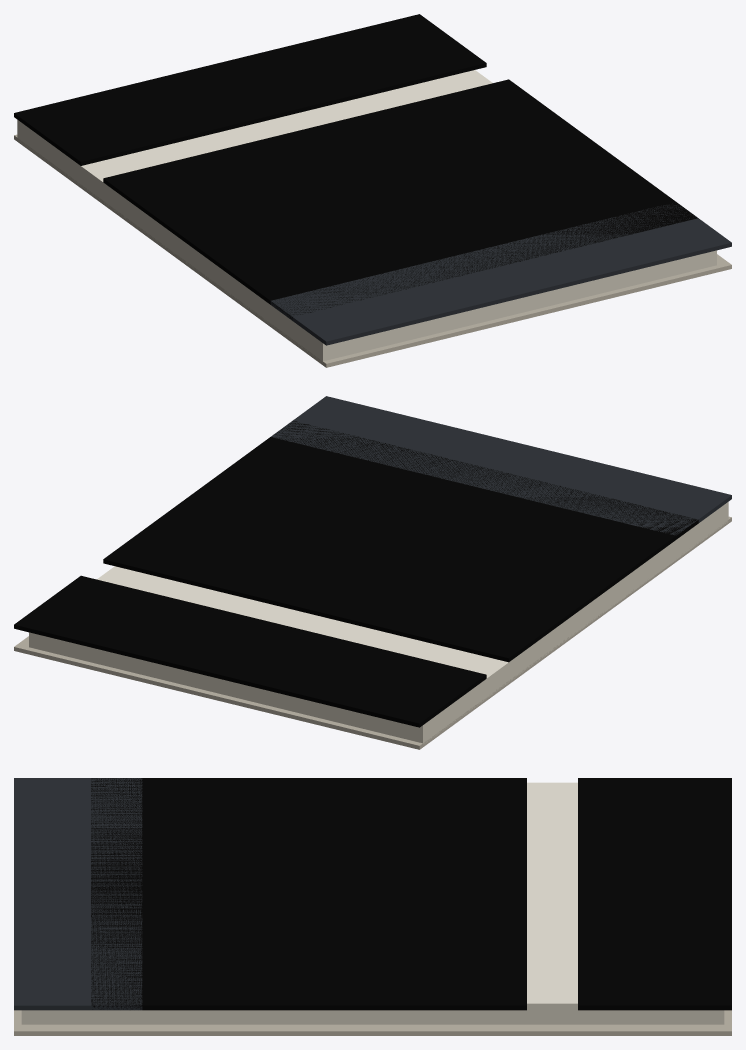
Rendered from Item_weekly_mag.fbx.
3 views of the same model, one above another, from view 1: azimuth 30°, elevation 25°; view 2: azimuth 150°, elevation 25°; view 3: azimuth 270°, elevation 25° (orthographic). The views are drawn at different scales.
Parts seen in each view (by area): view 1: Photo, Title, Headline, Pages, Back; view 2: Photo, Title, Headline, Pages, Back; view 3: Photo, Title, Headline, Pages, Back.
Boxes of the visible parts, x1,y1,x2,y2 form: Photo: (103,79,697,319); Title: (14,14,486,165); Headline: (270,203,731,345); Pages: (17,70,716,362); Back: (14,134,731,367); Photo: (103,421,698,662); Title: (14,575,486,727); Headline: (271,396,731,535); Pages: (29,502,728,744); Back: (14,516,731,749); Photo: (91,778,526,1010); Title: (578,778,731,1010); Headline: (14,778,142,1010); Pages: (21,782,724,1024); Back: (14,1010,731,1035).
Size of the model in its own units: 0.2835 by 0.0176 by 0.378.
